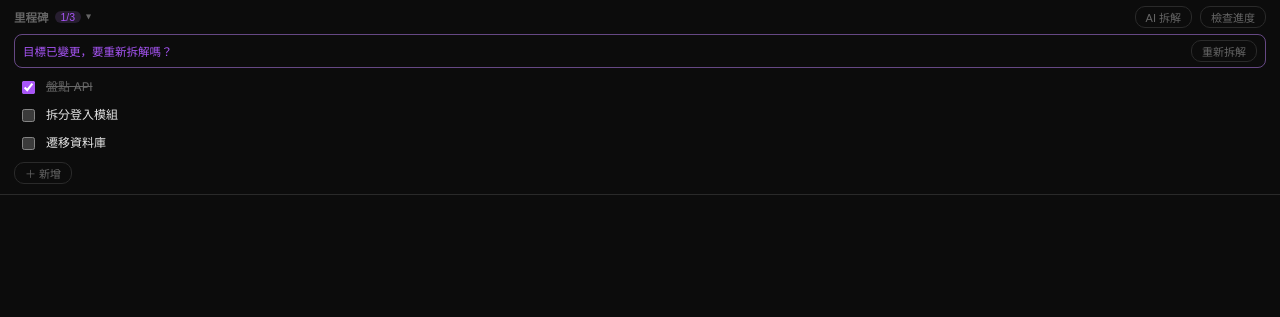
Test case: MilestoneList – goal changed › offers to plan again when the goal differs from the one the milestones were planned for
Expected: the text "目標已變更，要重新拆解嗎？" is shown, [23,43,172,59]
Expected: the text "盤點 API" is shown, [46,79,92,94]
Click the button "重新拆解" at (1224, 51), box [1191,40,1257,62]
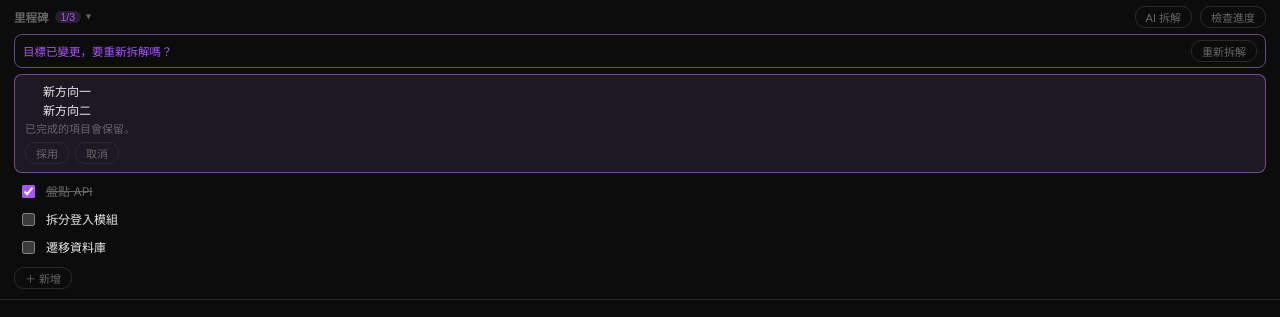
Now the element named "AI 提議的里程碑" is shown, box [14,74,1266,173]
